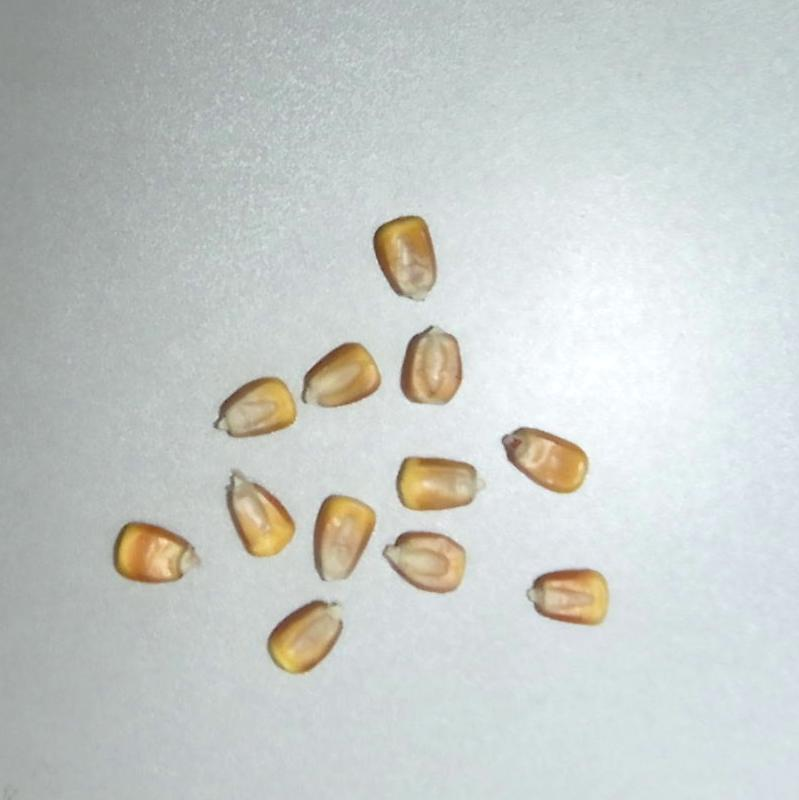corn: (257, 587, 360, 683), (492, 413, 598, 504), (215, 461, 302, 564), (289, 335, 388, 425), (295, 488, 382, 590), (107, 517, 206, 596), (369, 212, 445, 308), (377, 523, 471, 597), (208, 372, 300, 444), (394, 455, 488, 517), (399, 324, 465, 406), (527, 570, 610, 625)
